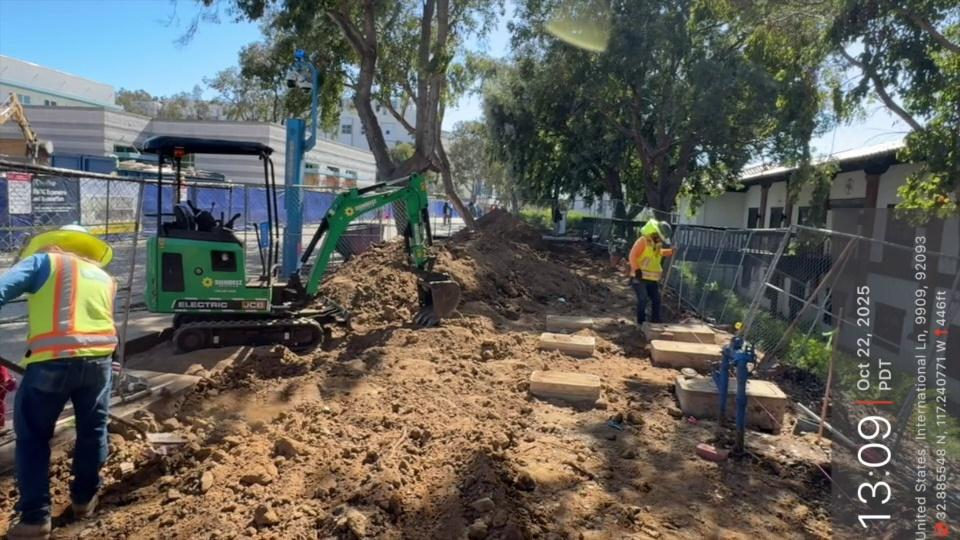Exacavator: (134, 123, 467, 363)
